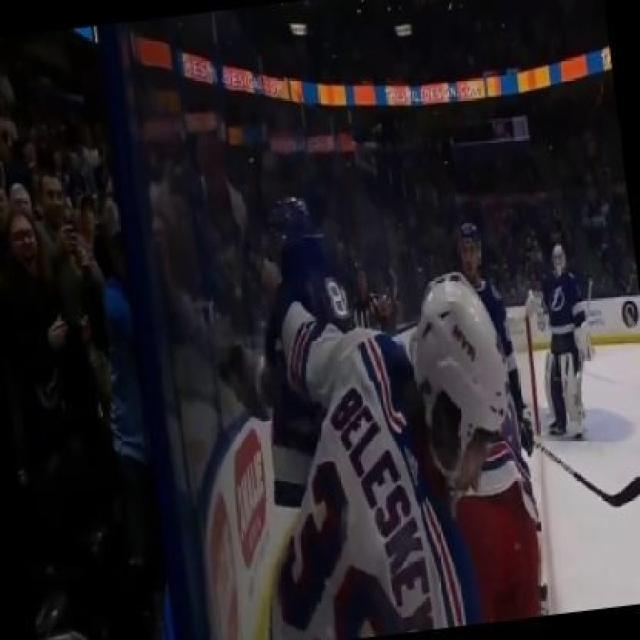fight: (228, 192, 528, 638)
non-fight: (516, 232, 610, 445)
